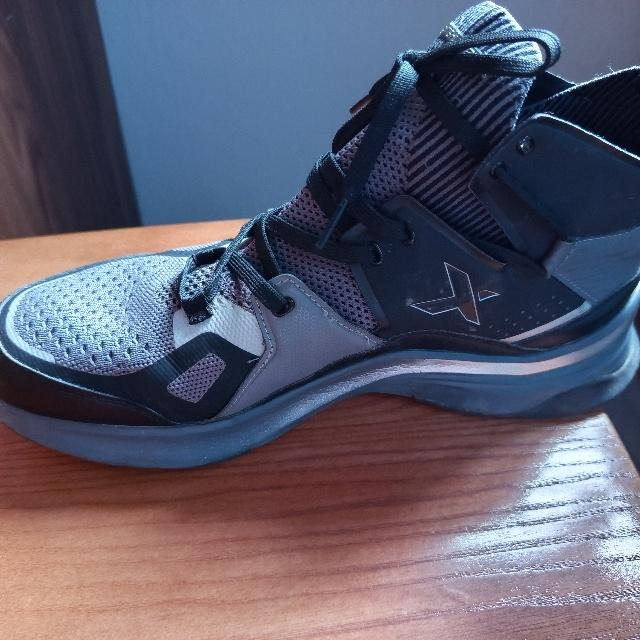broken-error: (319, 304, 338, 325)
